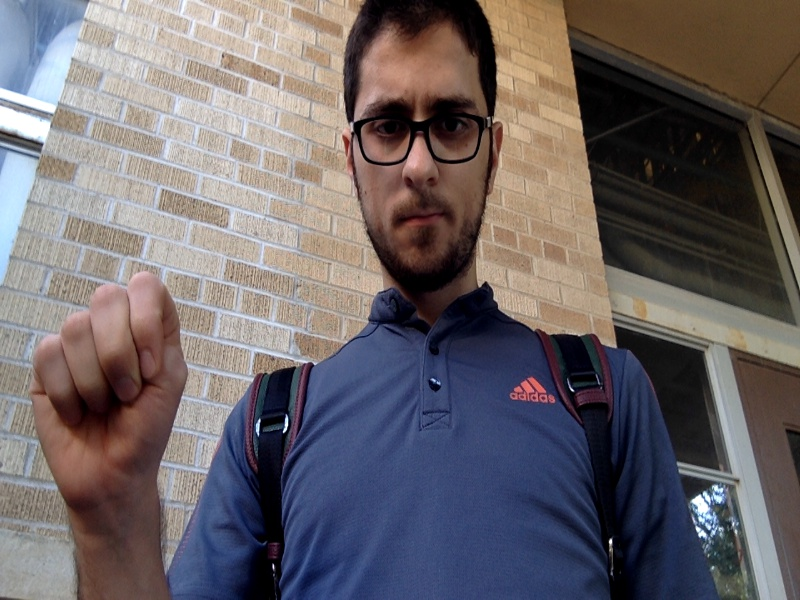0-hand: (33, 273, 188, 509)
